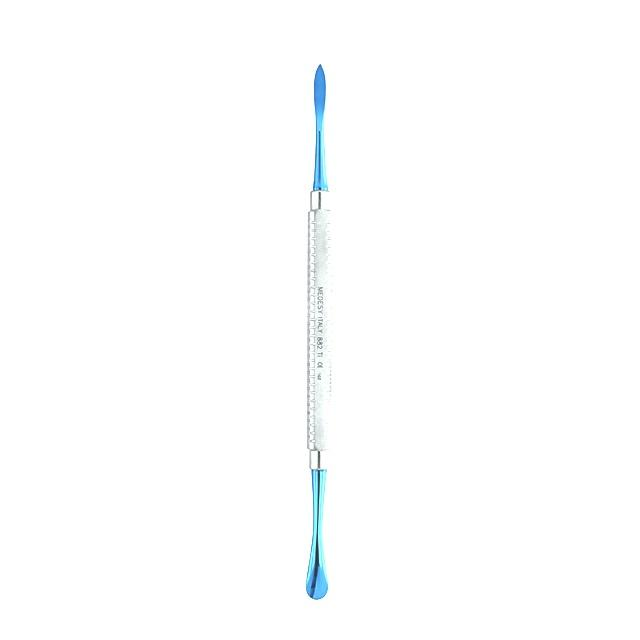elevador: (304, 63, 338, 605)
